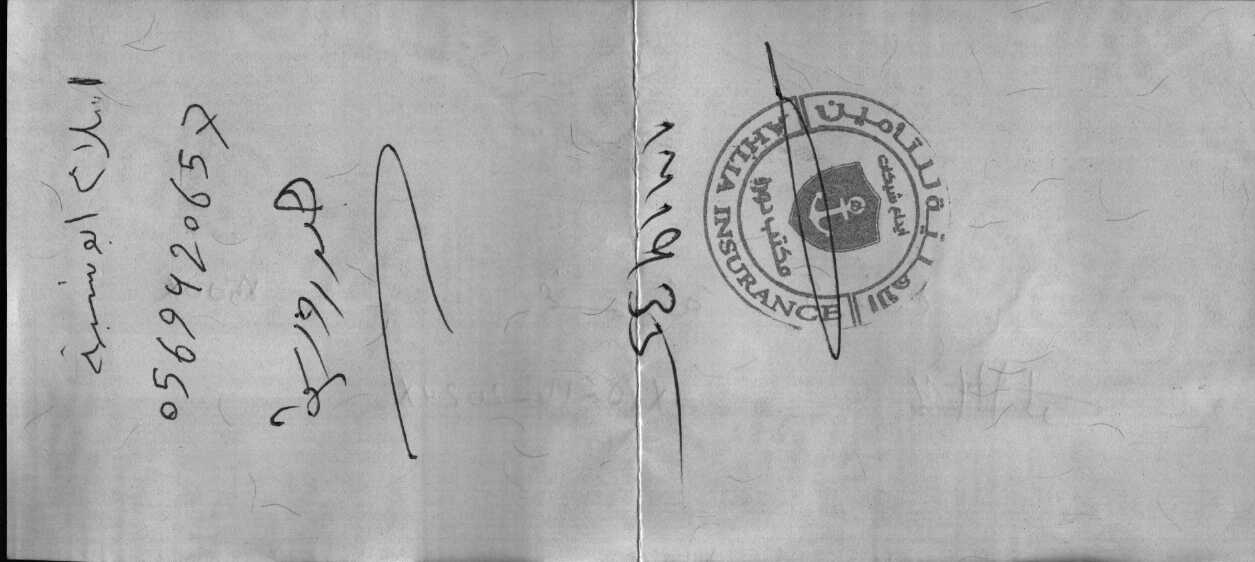stamp: (698, 89, 953, 338)
